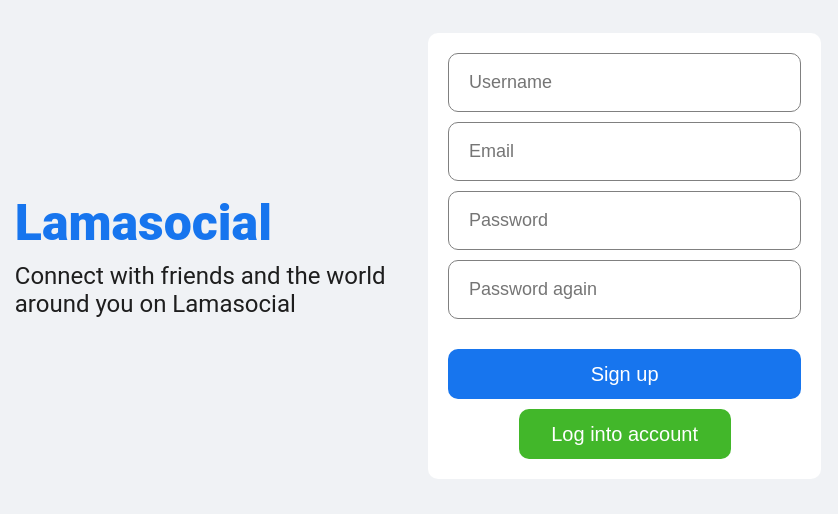
Signup › Should show error message when email is invalid
In the field with placeholder "Email": (625, 152) x1=448 y1=122 x2=801 y2=181, type "abc"
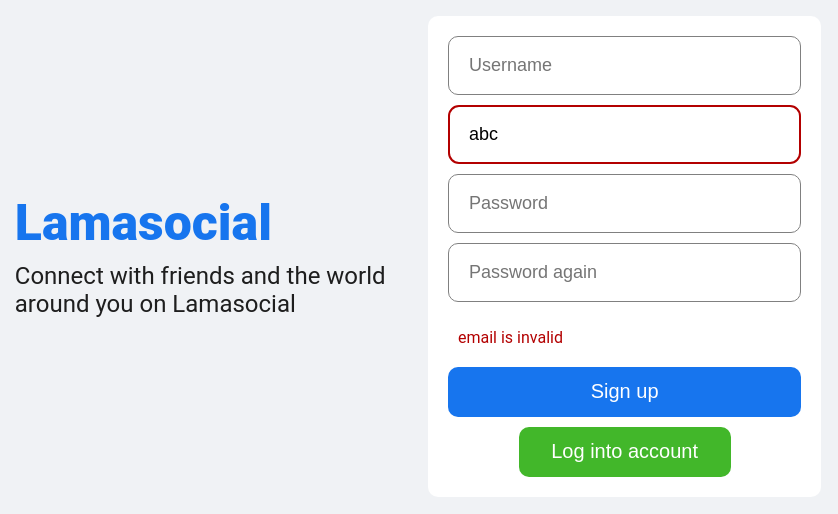
Check: the text "email is invalid" is shown, box x1=458 y1=328 x2=563 y2=346
